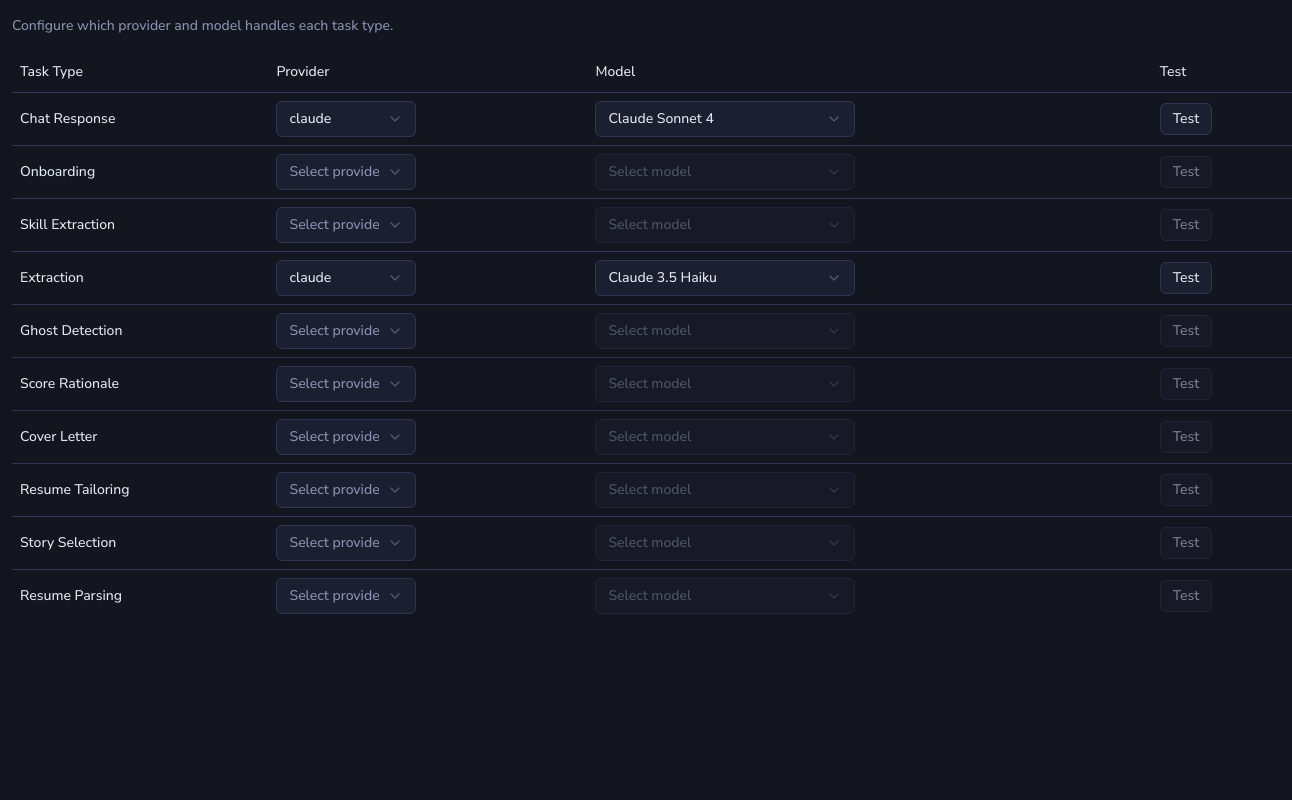
Test: RoutingTab › shows error badge with message on failed test
The width and height of the screenshot is (1292, 800).
Expected: the text "Extraction" is shown, [12,251,268,304]
Click the button with test id "test-btn-extraction" at (1186, 278), box [1160,262,1212,294]
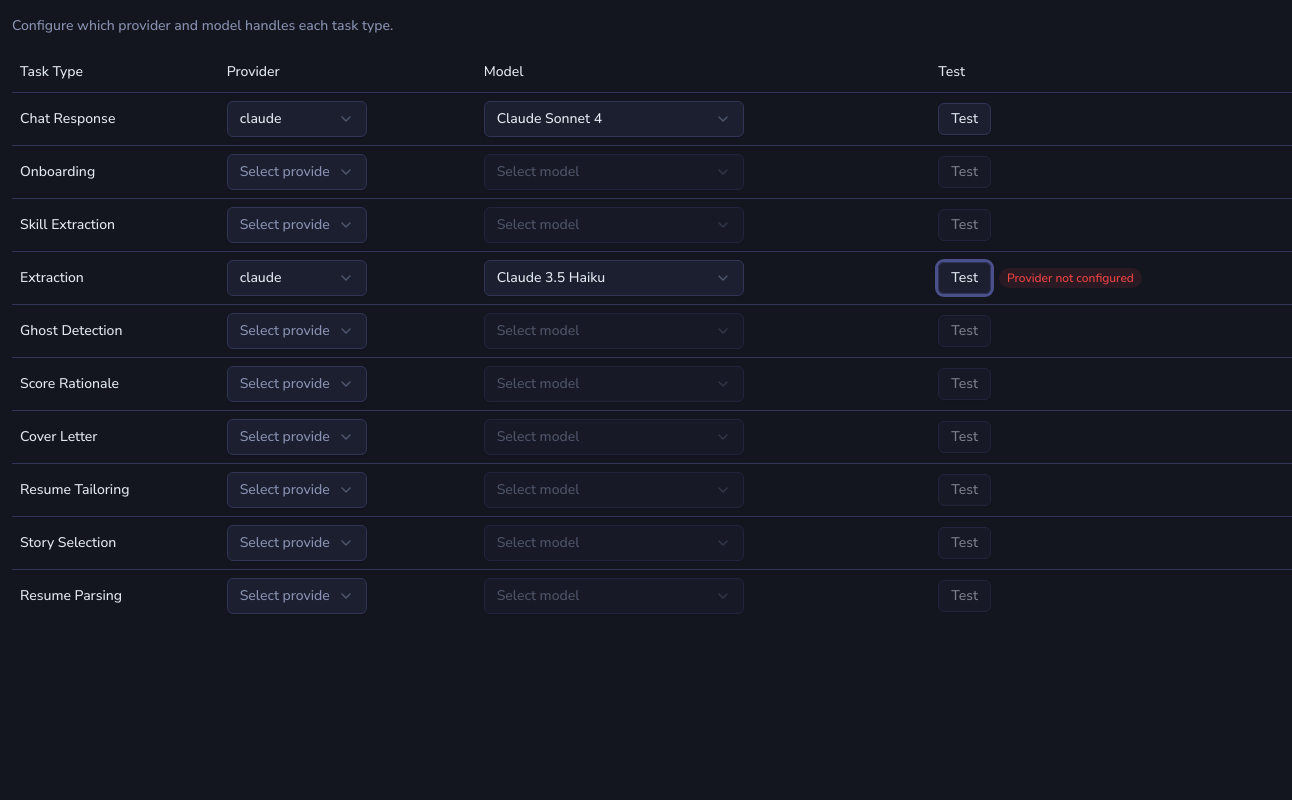
Result: the text with test id "test-result-extraction" reads "Provider not configured" at [1007,270,1134,286]
